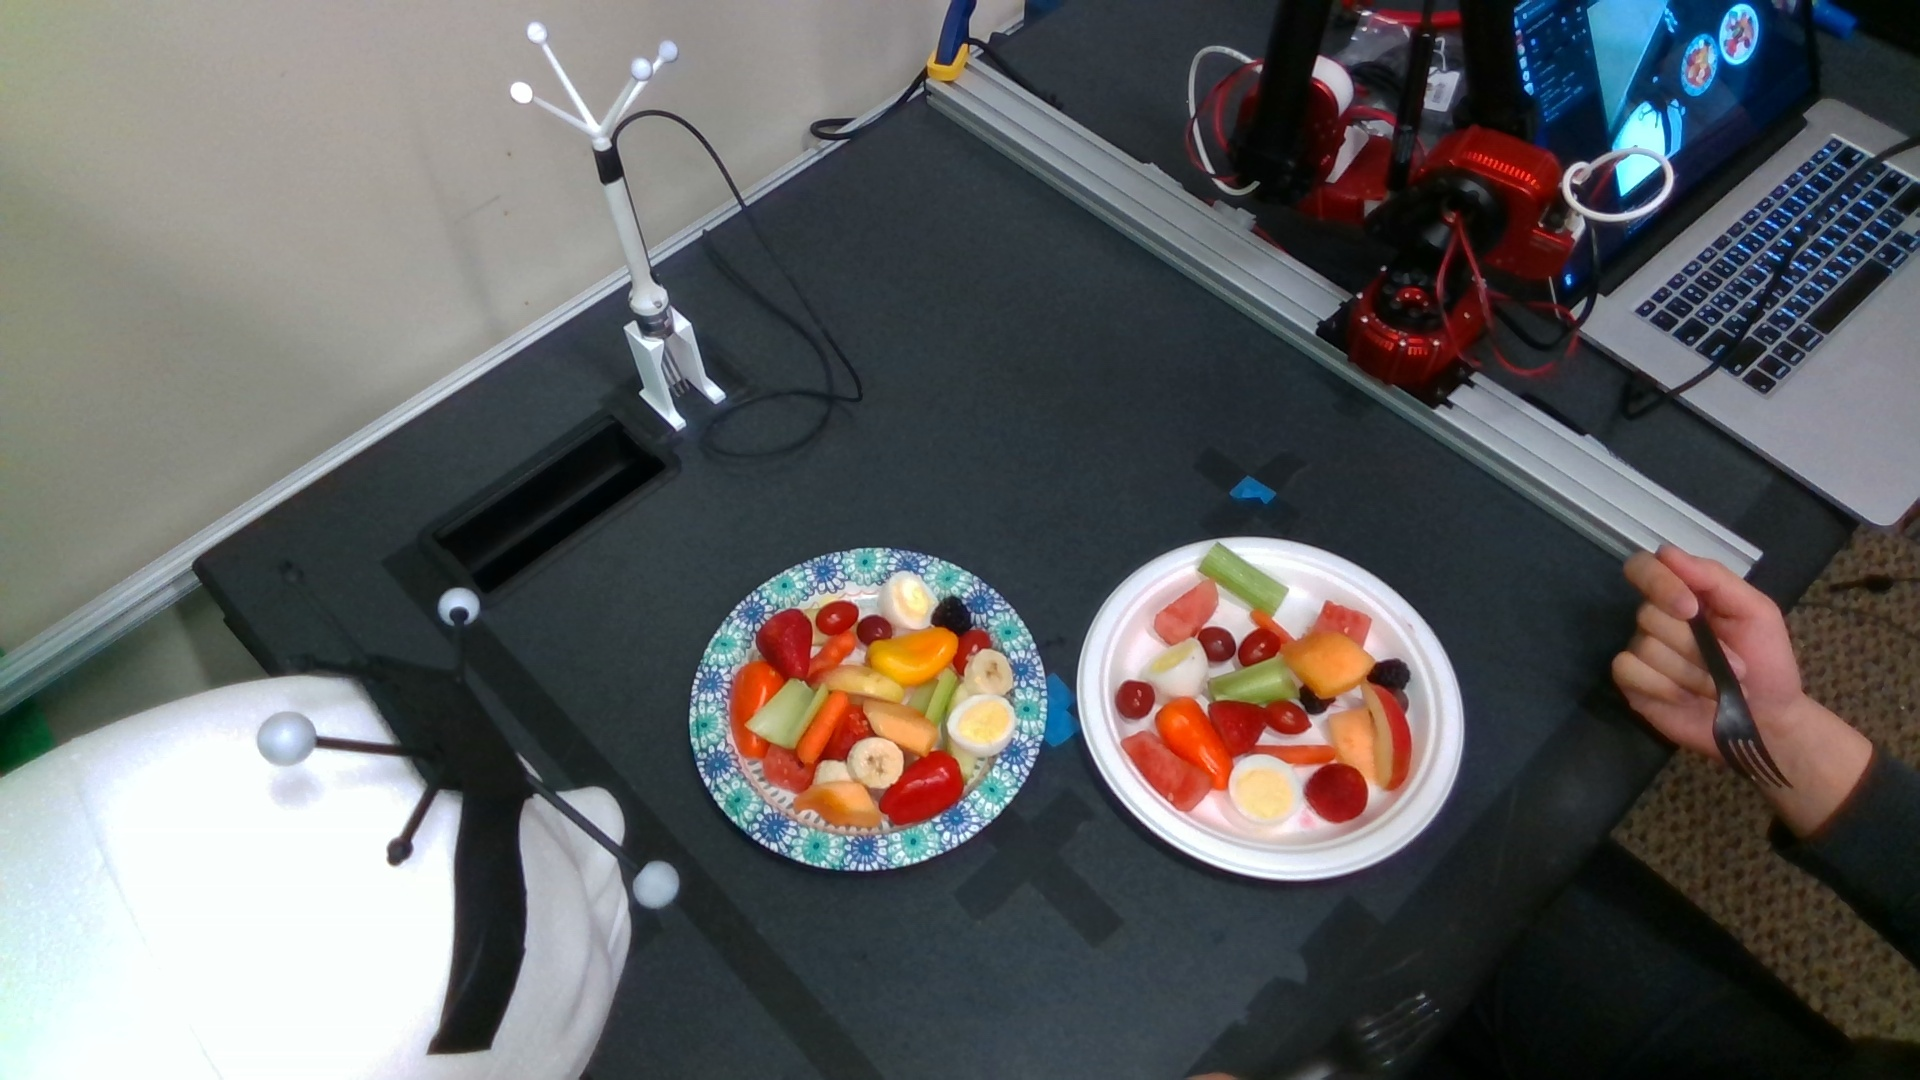apple: (1365, 686, 1412, 789), (825, 666, 905, 702)
banana: (847, 736, 903, 789), (963, 649, 1014, 698)
bell_pepper: (1153, 700, 1230, 790), (880, 752, 963, 824), (866, 626, 957, 686), (733, 665, 782, 760)
blackberry: (928, 597, 971, 634), (1371, 659, 1407, 690)
cantalope: (1280, 626, 1375, 698), (865, 698, 938, 758), (793, 781, 878, 827), (1333, 708, 1377, 783)
carrot: (800, 688, 847, 766), (804, 630, 855, 690), (1251, 742, 1338, 764)
celery: (1200, 543, 1284, 615), (750, 679, 824, 746), (916, 673, 956, 723)
cherry_tomato: (1265, 699, 1312, 733), (816, 603, 860, 636), (1242, 628, 1279, 665)
egg: (1228, 756, 1304, 824), (947, 694, 1017, 756), (1142, 640, 1209, 698), (880, 571, 940, 629)
grape_purple: (1116, 683, 1153, 717), (1197, 629, 1237, 659), (858, 617, 891, 645)
melon: (1120, 728, 1209, 814), (1156, 579, 1220, 645), (764, 742, 816, 793), (1315, 604, 1371, 644)
strawberry: (758, 609, 814, 678), (1305, 764, 1367, 822), (1205, 700, 1265, 760)
